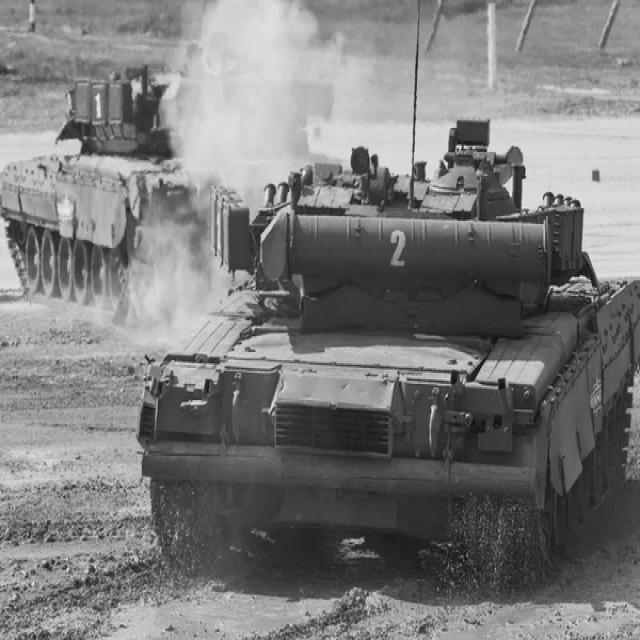Tank: (121, 107, 640, 586), (6, 44, 242, 312)
